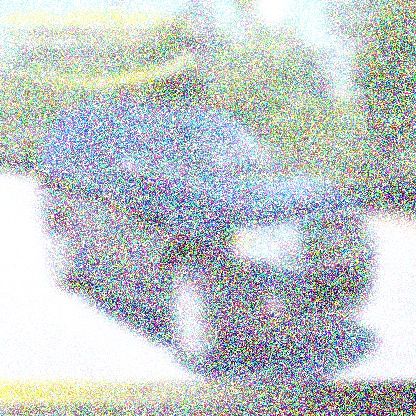Vehicle: (35, 99, 381, 375)
